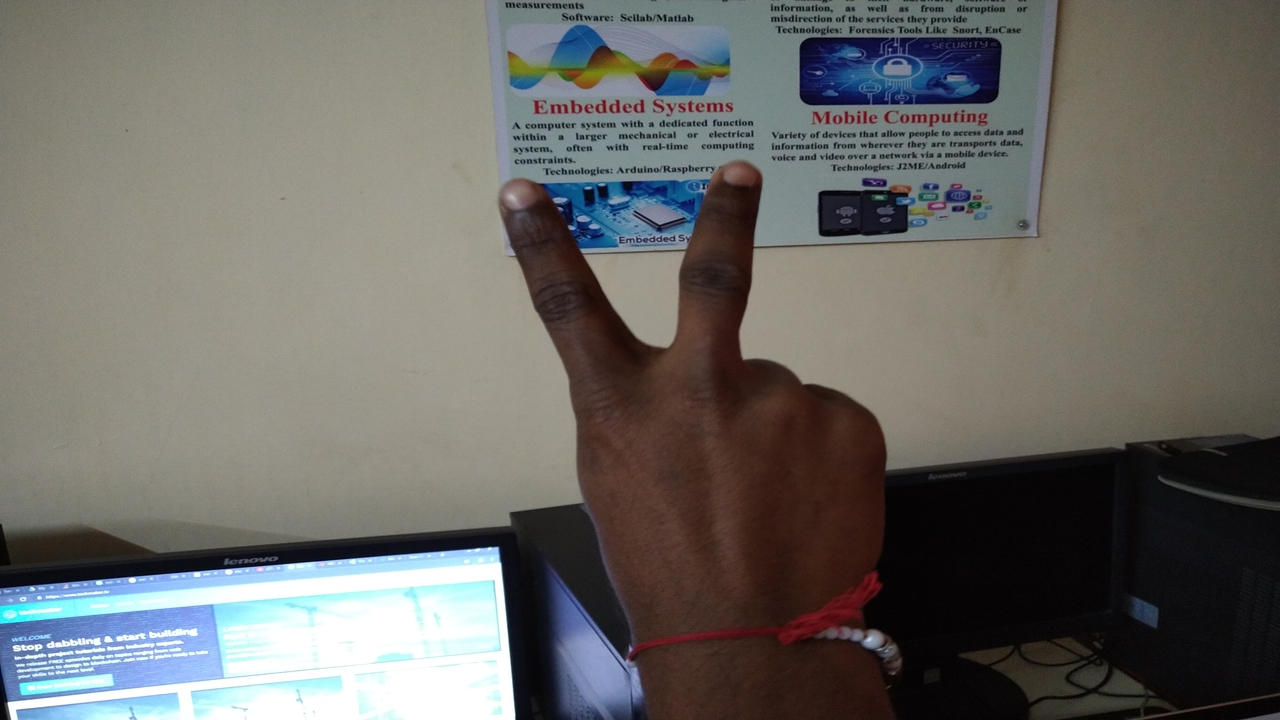fingertip: (704, 152, 766, 206), (490, 172, 550, 226)
